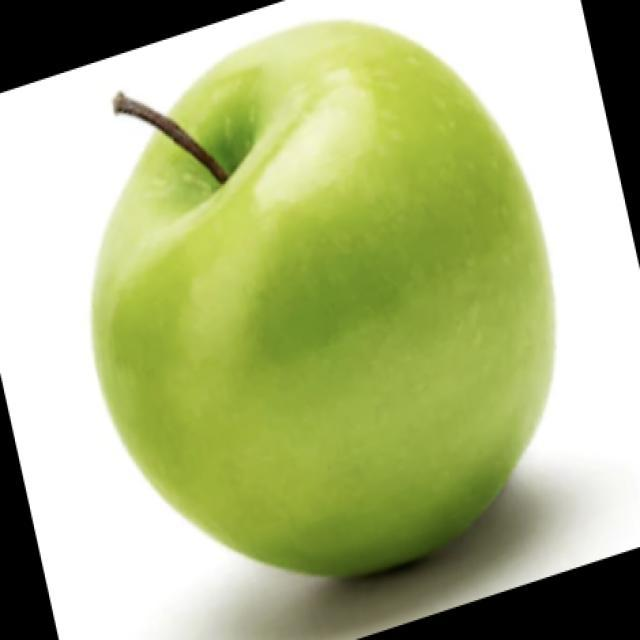Fresh Apple: (83, 26, 556, 576)
